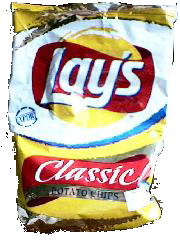grozi_51: (7, 1, 176, 233)
